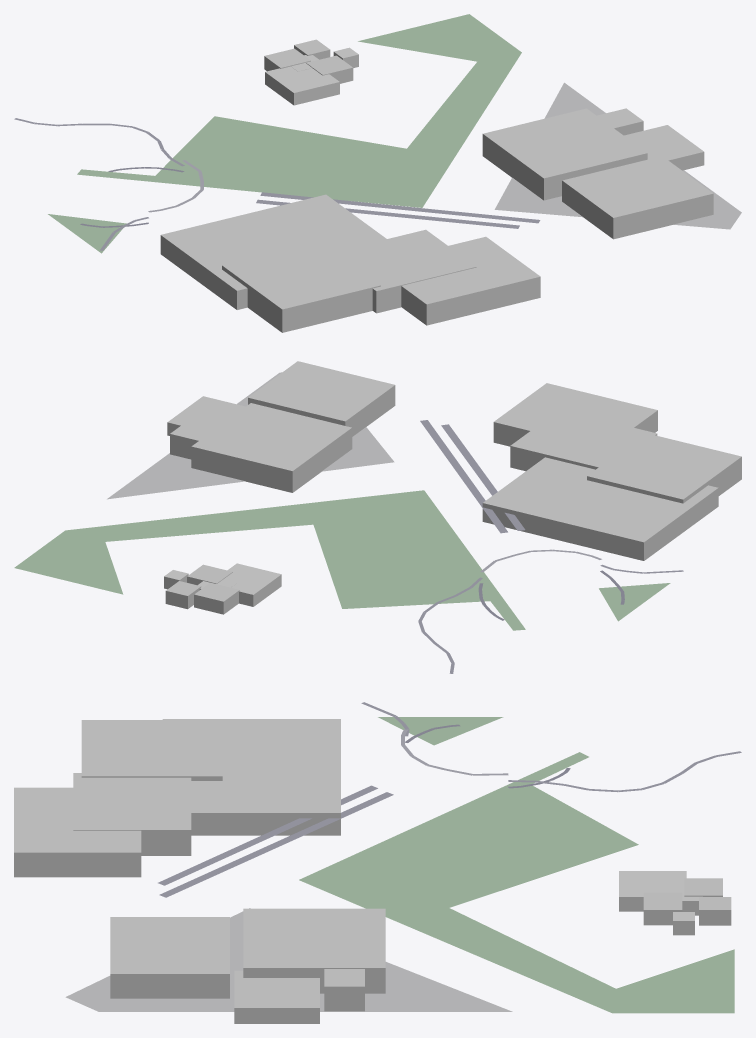
Rendered from 111_84_mid.glb.
3 renders of one model, top to bottom at view 1: azimuth 30°, elevation 25°; view 2: azimuth 150°, elevation 25°; view 3: azimuth 270°, elevation 25°, orthographic. The views are drawn at different scales.
Size of the model in its own units: 527 by 21.88 by 519.
